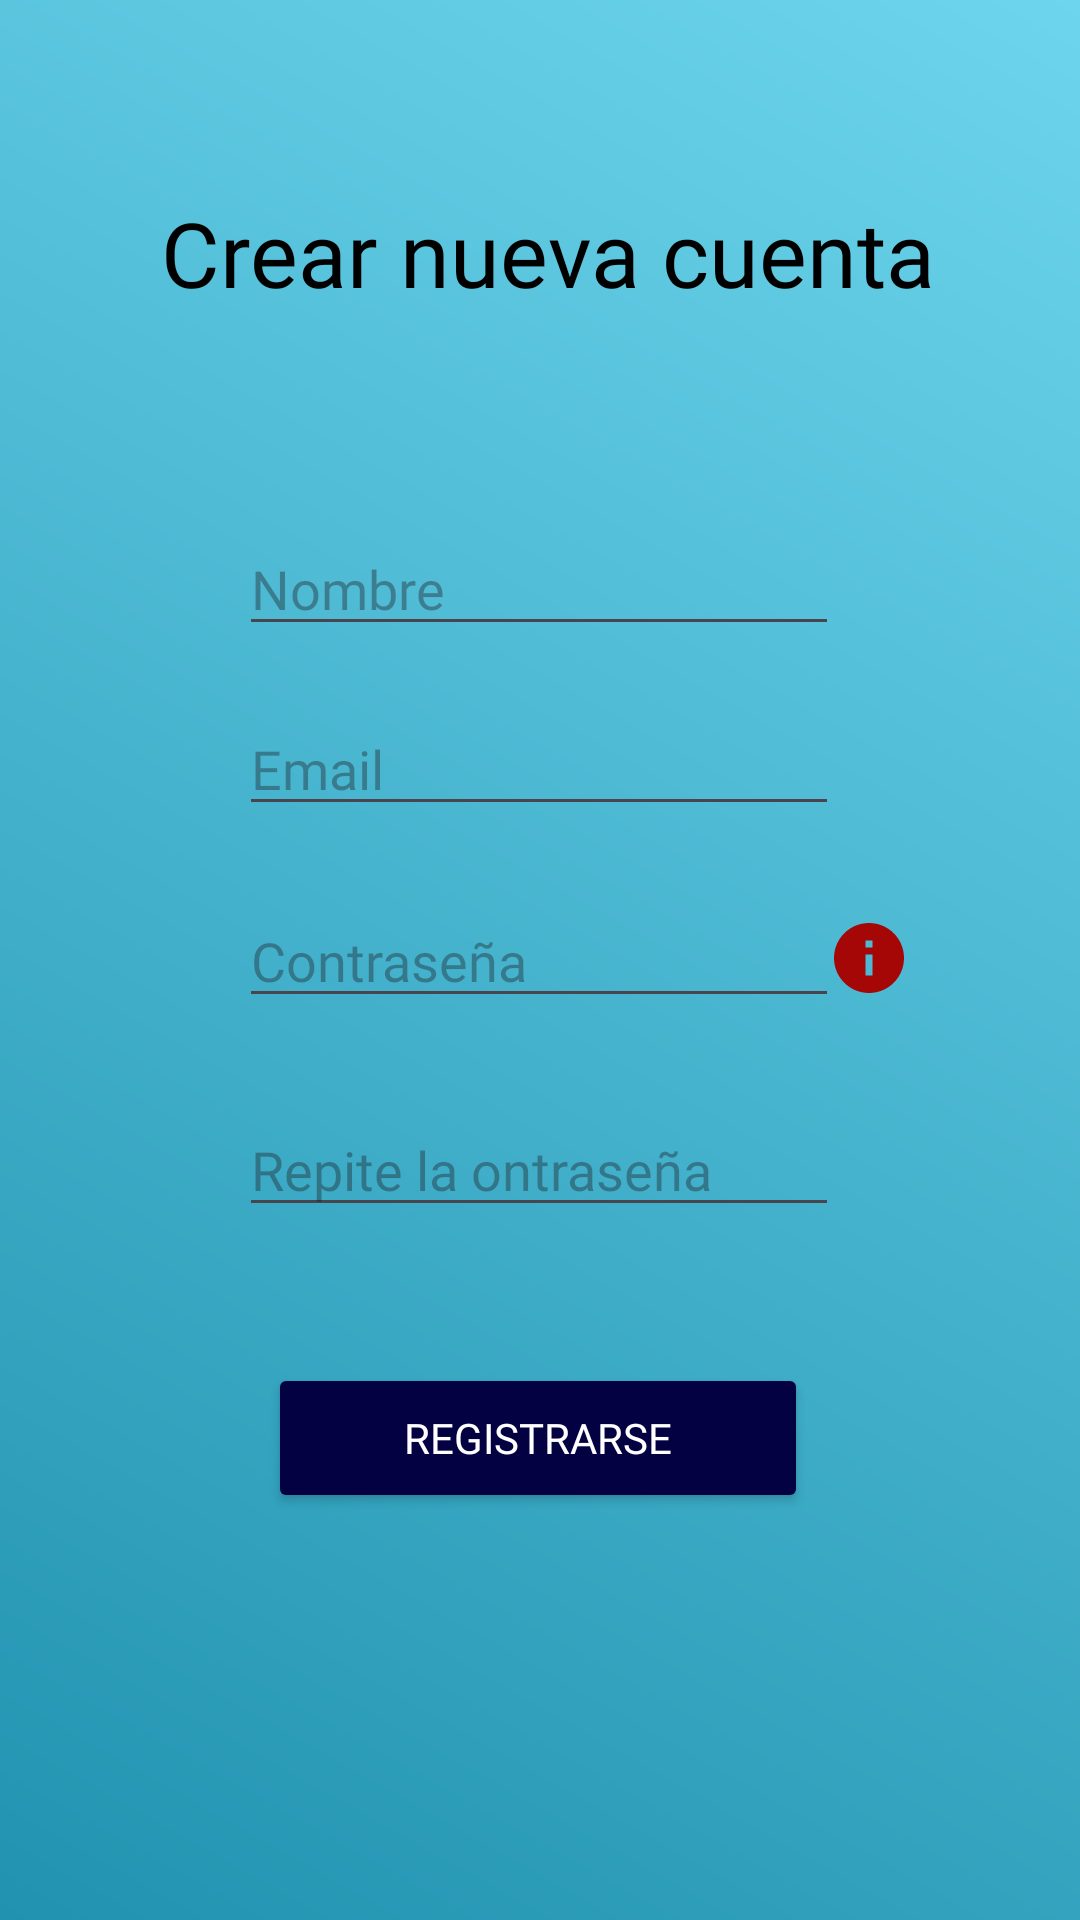

Where to tap for icons on this 1080 × 1920 app screen, as [x,y]:
info: [869,958]
